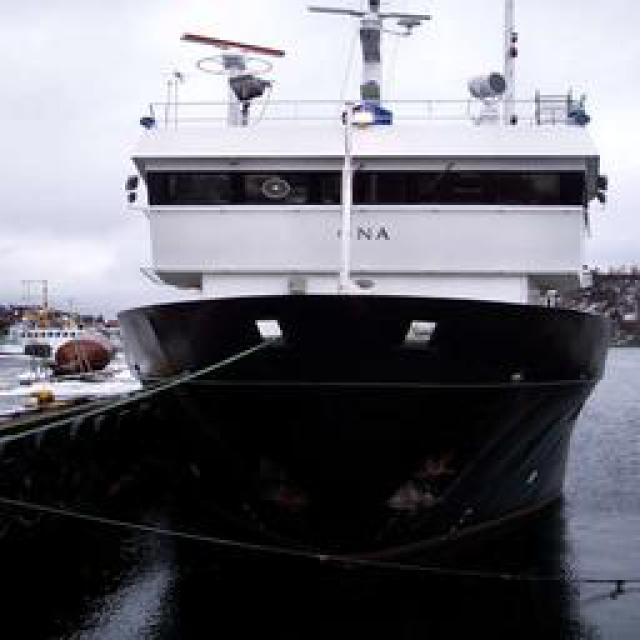Ship: (45, 14, 625, 574)
